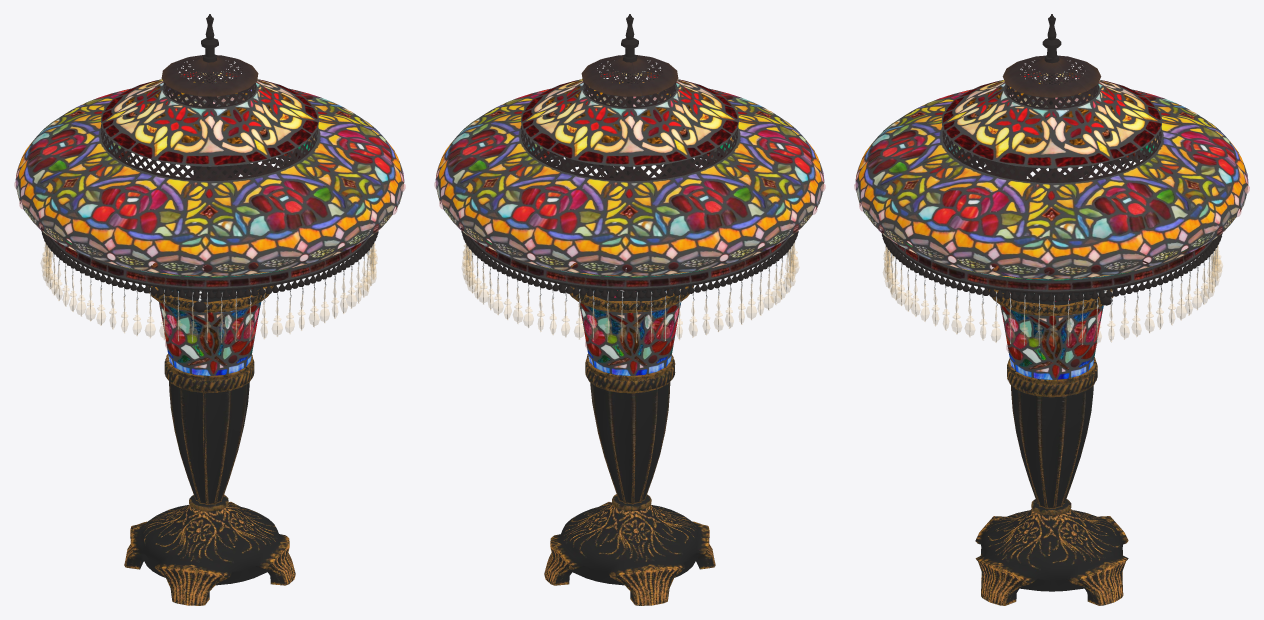
The model's file is stained-glass-lamp.glb.
3 renders of one model, left to right at view 1: azimuth 30°, elevation 25°; view 2: azimuth 150°, elevation 25°; view 3: azimuth 270°, elevation 25°, orthographic.
Visible parts, largest first — view 1: stainedglass, base, grill, amberbeads, hardware, steel, redgems; view 2: stainedglass, base, grill, amberbeads, hardware, steel, redgems; view 3: stainedglass, base, grill, amberbeads, hardware, steel, redgems.
Part boxes in pixels (box(x1,y1,x2,y2)): stainedglass: box(15, 71, 404, 375); base: box(124, 262, 295, 605); grill: box(101, 55, 317, 180); amberbeads: box(41, 239, 377, 342); hardware: box(41, 14, 378, 312); steel: box(45, 162, 373, 342); redgems: box(14, 102, 405, 363); stainedglass: box(435, 71, 824, 375); base: box(544, 263, 715, 605); grill: box(521, 55, 737, 181); amberbeads: box(462, 170, 799, 342); hardware: box(461, 14, 798, 298); steel: box(466, 160, 794, 342); redgems: box(434, 105, 825, 363); stainedglass: box(855, 71, 1248, 379); base: box(975, 265, 1128, 605); grill: box(942, 55, 1161, 182); amberbeads: box(883, 173, 1222, 346); hardware: box(881, 14, 1222, 305); steel: box(886, 163, 1217, 345); redgems: box(854, 106, 1249, 367).
Bounding box in the file's own units: 0.4399 × 0.6889 × 0.4399.
8 materials, 4 textured.
